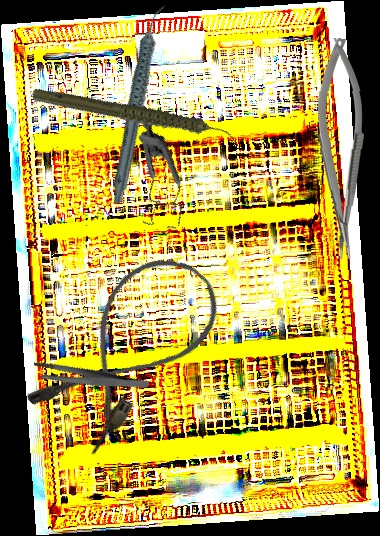Cannula: (20, 237, 235, 460)
Dressing Forceps: (29, 337, 151, 418)
Handpiece: (28, 47, 240, 187), (73, 3, 206, 206)
Needle Holder: (314, 38, 366, 259)
Speculum: (85, 105, 220, 242)
